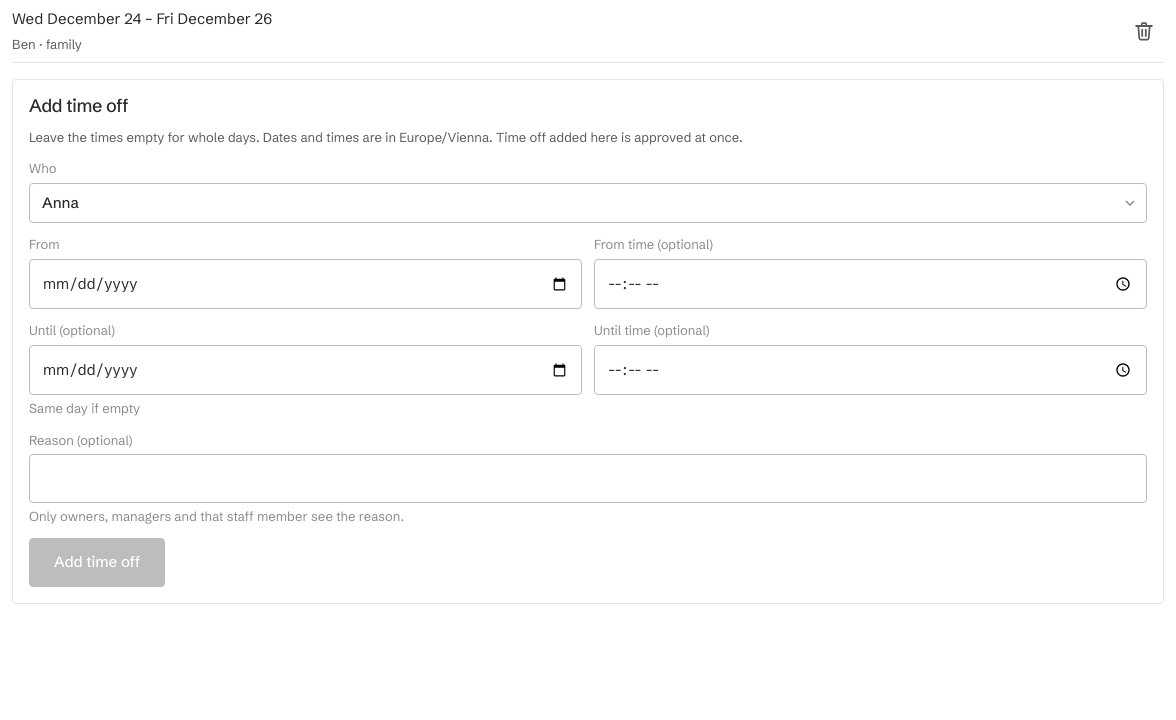
Test: TimeOff › lists the organization's time off and adds for the staff member picked
This screenshot has width=1176, height=720.
Expected: the text "Ben · family" is shown, [12,36,82,52]
Select "Ben" in the dropdown labelled "Who" at (588, 203), box [29,183,1147,223]
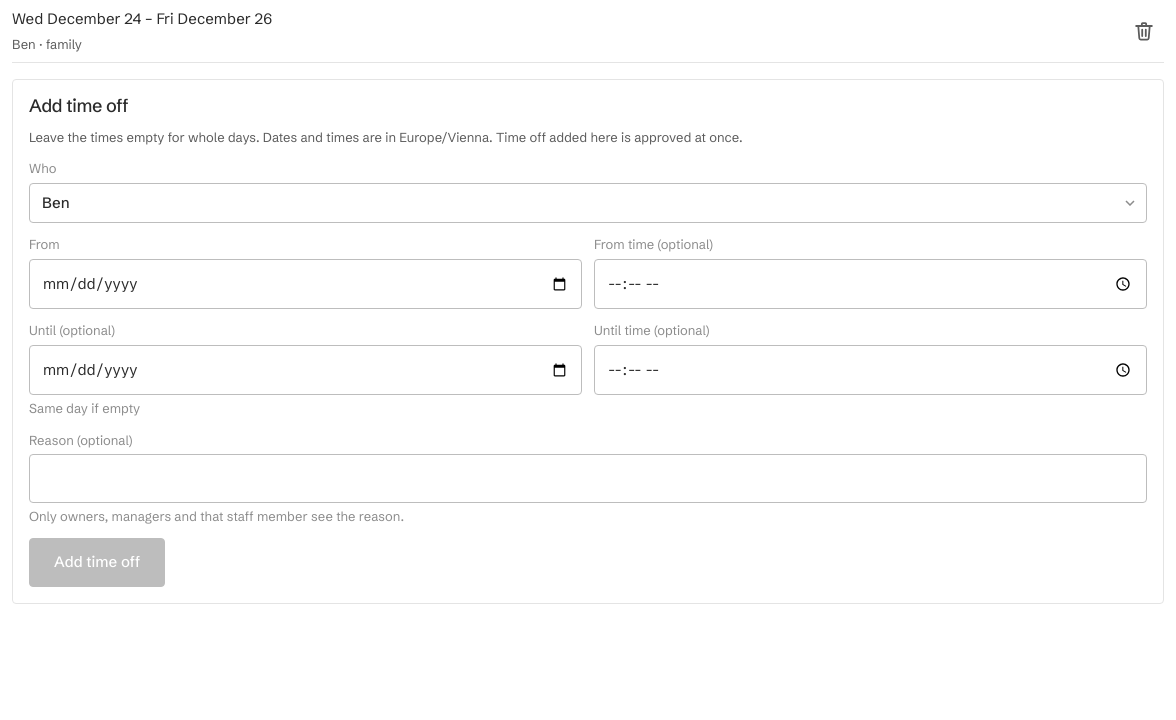
Type "2032-01-05" into the date field labelled "From" at (306, 284), box [29,259,582,309]
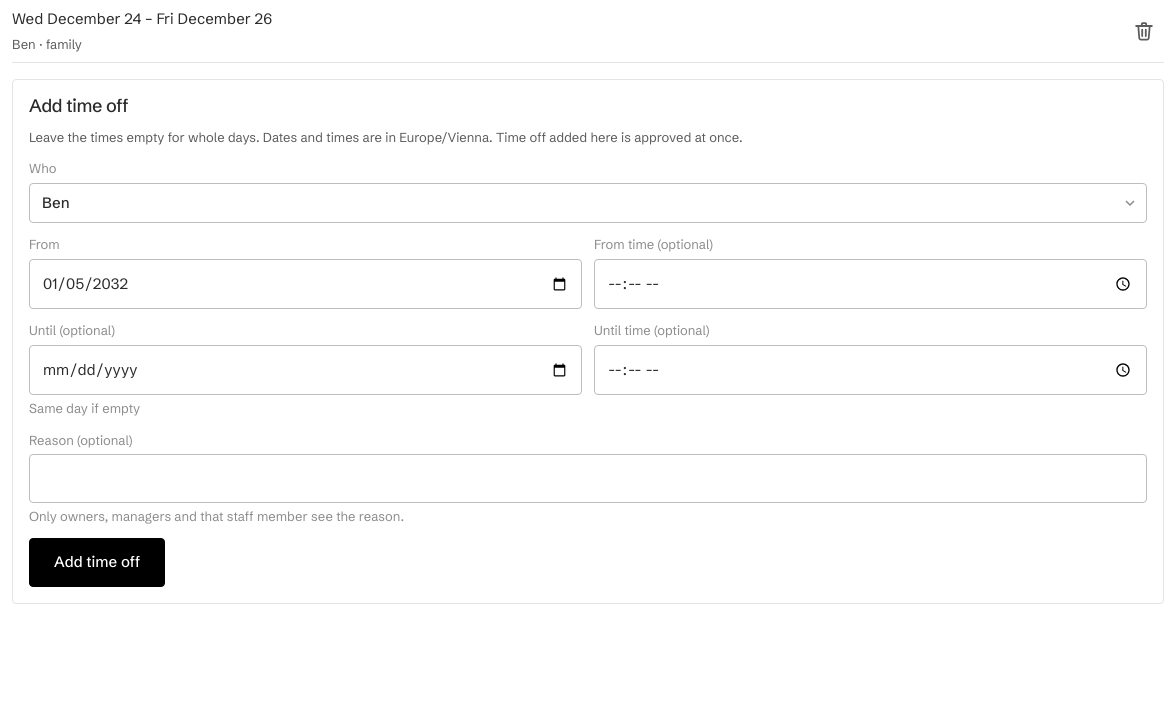
Type "09:00" into the time field labelled "From time (optional)" at (870, 284), box [594,259,1147,309]
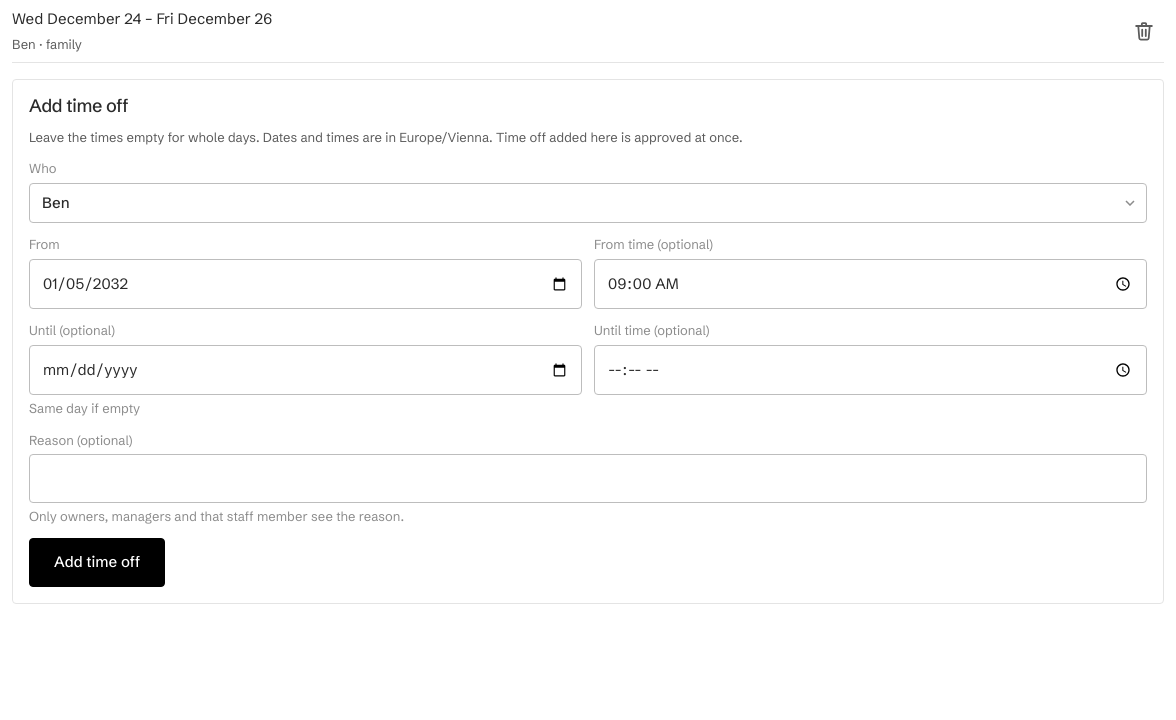
Type "12:00" into the time field labelled "Until time (optional)" at (870, 370), box [594,345,1147,395]
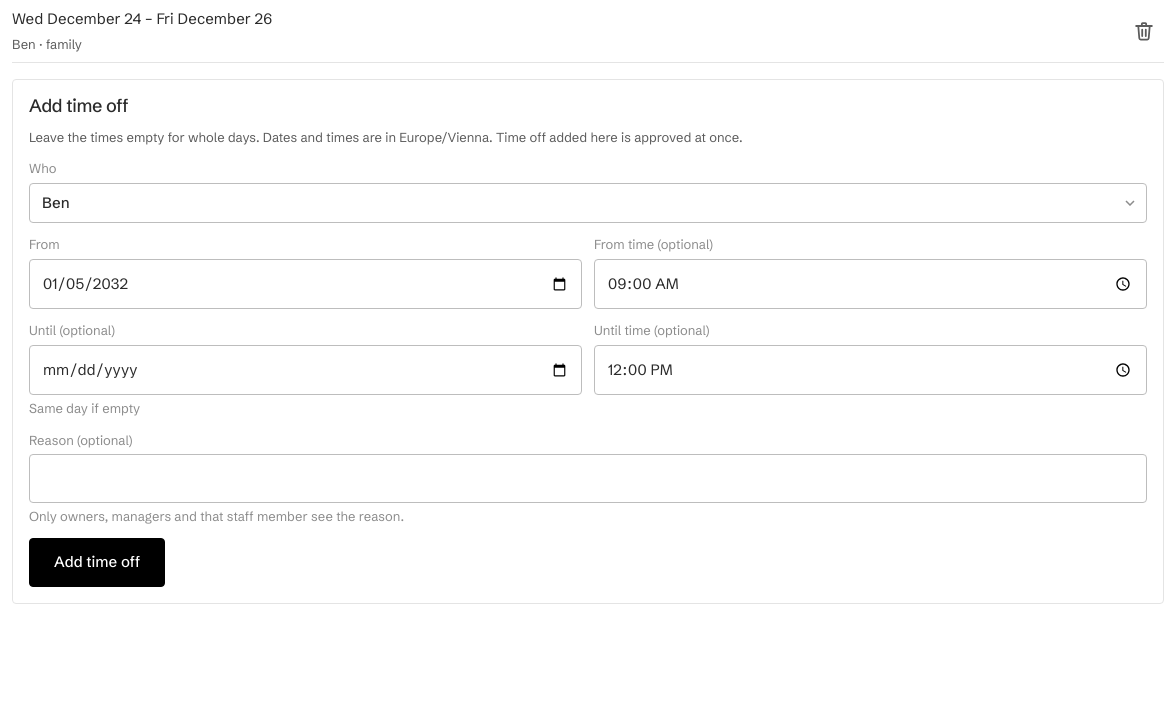
Click the button "Add time off" at (97, 563), box [29,538,165,587]
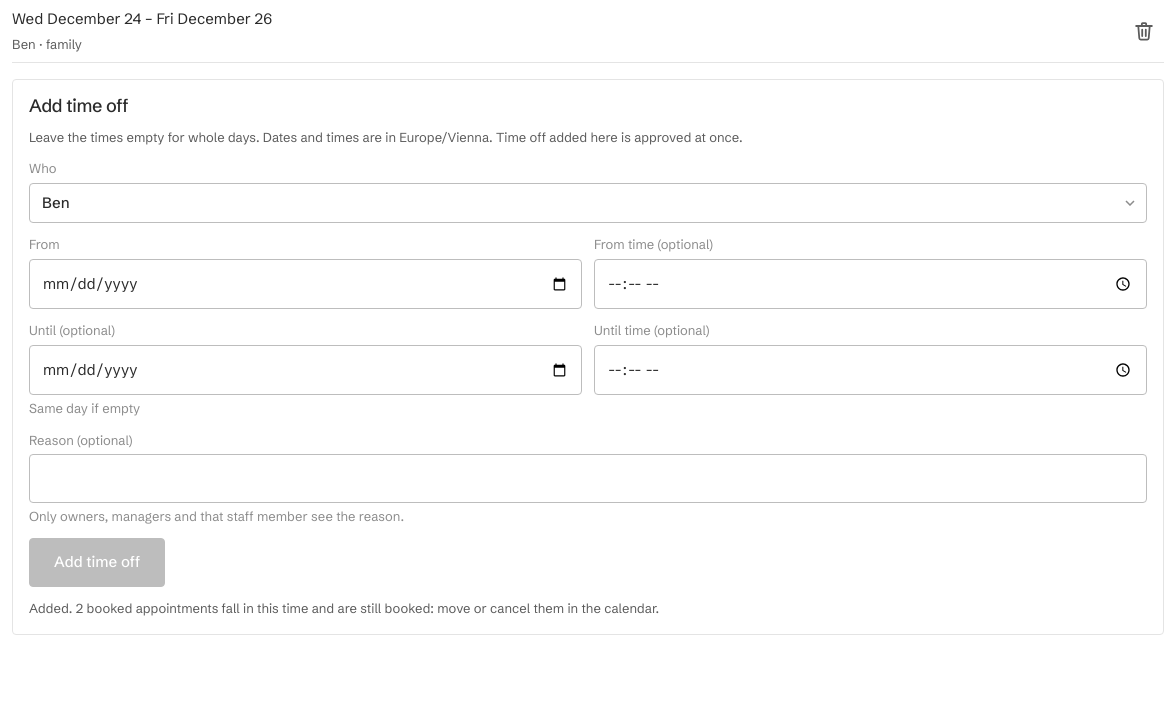
Result: the text "2 booked appointments fall in this time" is shown at [29,600,659,616]
